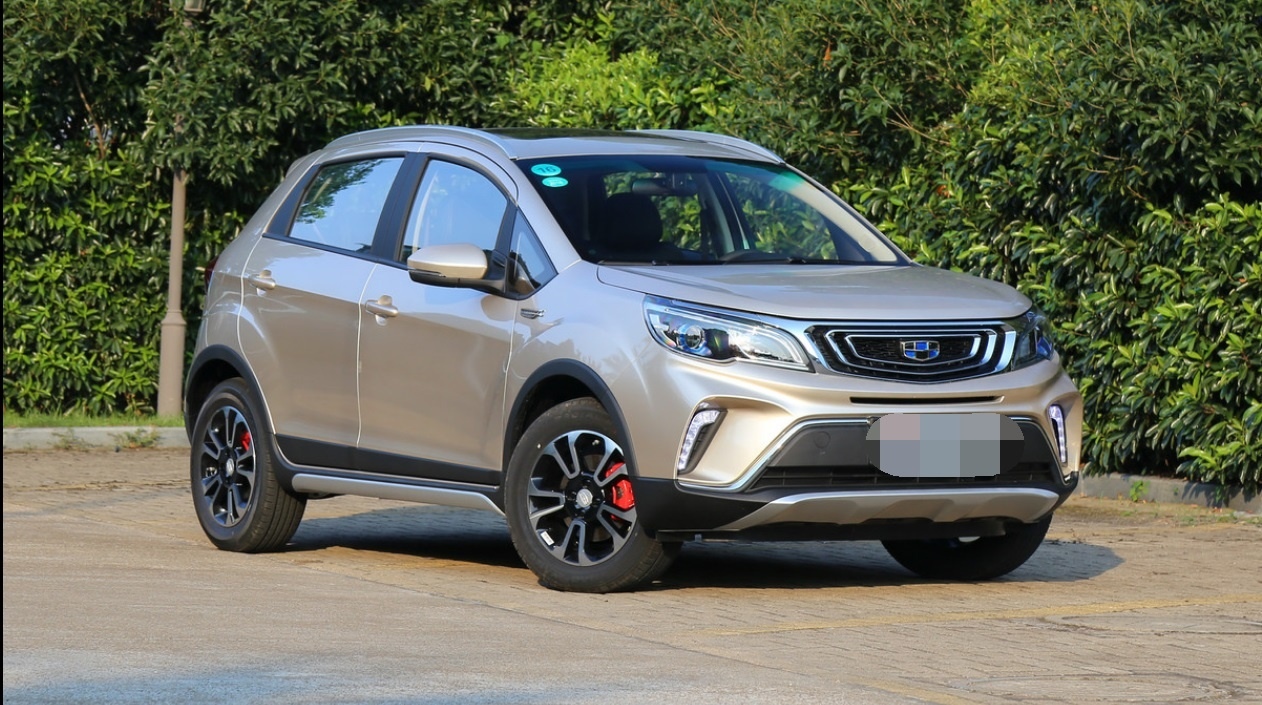SUV: (162, 118, 1100, 576)
